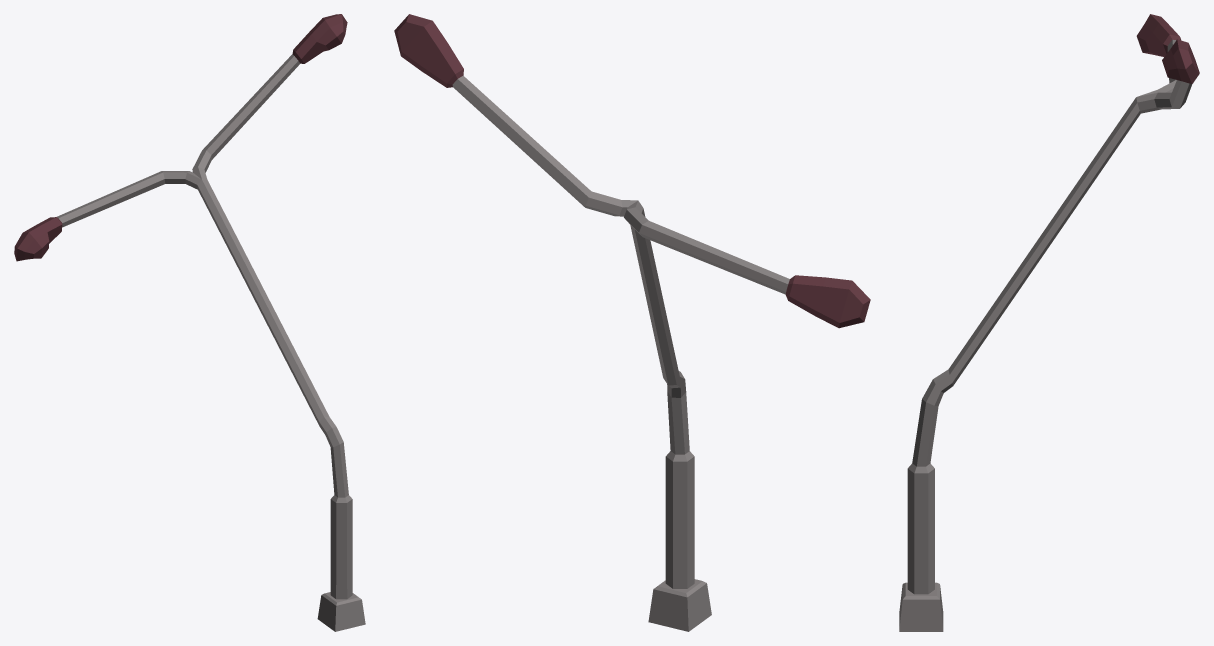
The model's file is apocalypse-lamp-road-double-apocalypse-b.glb.
The picture shows the model from 3 angles, left to right: view 1: azimuth 30°, elevation 25°; view 2: azimuth 150°, elevation 25°; view 3: azimuth 270°, elevation 25°; orthographic projection. The views are drawn at different scales.
Parts seen in each view (by area): view 1: lamp-road-double-apocalypse-b; view 2: lamp-road-double-apocalypse-b; view 3: lamp-road-double-apocalypse-b.
Boxes of the visible parts, box(x1,y1,x2,y2) form: lamp-road-double-apocalypse-b: box(14, 14, 365, 631); lamp-road-double-apocalypse-b: box(394, 14, 870, 631); lamp-road-double-apocalypse-b: box(899, 14, 1199, 631).
Bounding box in the file's own units: 6.23 × 8.75 × 3.74.
